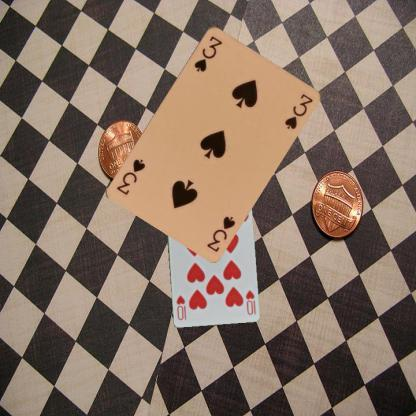10h: (244, 287, 256, 316)
3s: (204, 213, 237, 253), (192, 32, 224, 73)
